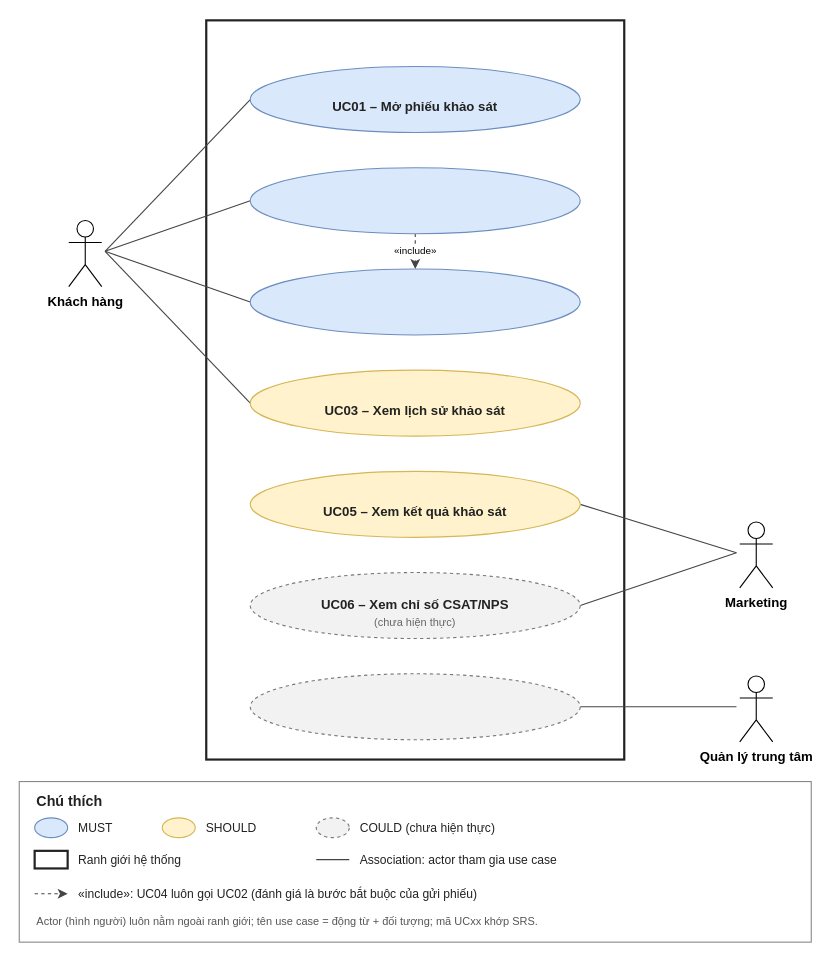
Some shapes in this 832 by 961 pixel diagram are drawn without their labels. The shapes that lost their labels are listed below. From the top down, each one's box as (x1, y1, x2, y2) in pixels, then its label:
(249, 167, 580, 234): UC04 – Gửi phiếu khảo sát
(249, 268, 580, 335): UC02 – Đánh giá mức độ hài lòng
(205, 19, 625, 760): Hệ thống khảo sát mức độ hài lòng sau bảo hành
(249, 673, 580, 740): UC07 – Xem kết quả khảo sát theo kỹ thuật viên (chưa hiện thực)
